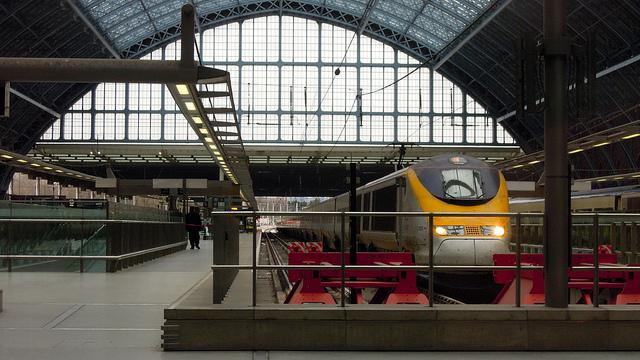Train: (278, 153, 513, 266), (510, 192, 640, 268)
